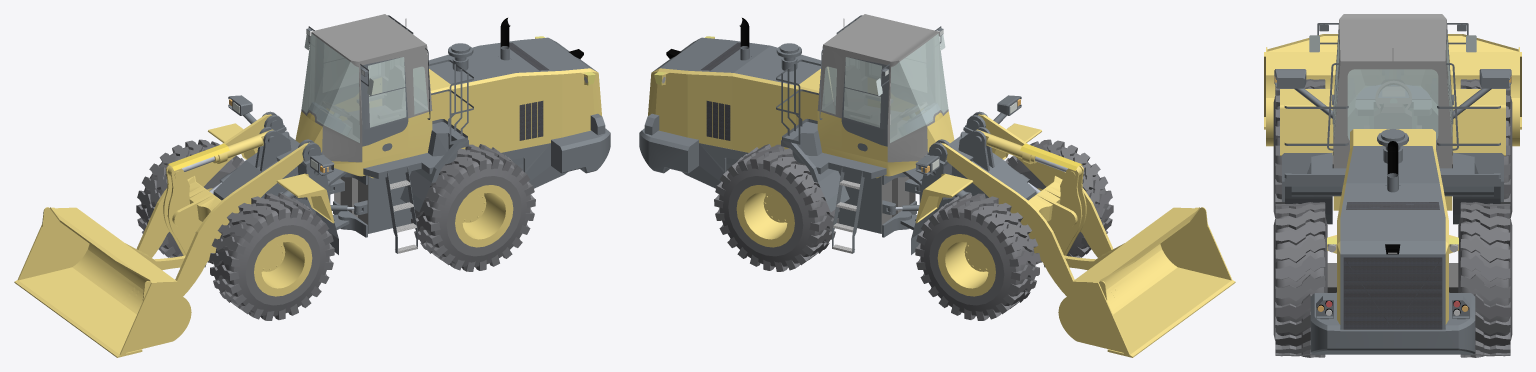
Rendered from loader.glb.
3 renders of one model, left to right at view 1: azimuth 30°, elevation 25°; view 2: azimuth 150°, elevation 25°; view 3: azimuth 270°, elevation 25°, orthographic. The views are drawn at different scales.
Parts seen in each view (by area): view 1: Geom3D_4, Geom3D_13, Geom3D_18, Geom3D_17, Geom3D_28, Geom3D_14, Geom3D_33, Geom3D_24, Geom3D_7, Geom3D_23; view 2: Geom3D_4, Geom3D_13, Geom3D_18, Geom3D_17, Geom3D_28, Geom3D_14, Geom3D_33, Geom3D_24, Geom3D_7, Geom3D_23; view 3: Geom3D_13, Geom3D_17, Geom3D_14, Geom3D_18, Geom3D_33, Geom3D_4, Geom3D_28, Geom3D_20, Geom3D_19, Geom3D_31.
Boxes of the visible parts, bbox=[...] form: Geom3D_4: bbox=[14, 114, 309, 357]; Geom3D_13: bbox=[213, 15, 610, 254]; Geom3D_18: bbox=[193, 37, 601, 296]; Geom3D_17: bbox=[136, 139, 535, 320]; Geom3D_28: bbox=[301, 33, 428, 142]; Geom3D_14: bbox=[301, 14, 432, 162]; Geom3D_33: bbox=[509, 42, 548, 140]; Geom3D_24: bbox=[334, 148, 523, 233]; Geom3D_7: bbox=[167, 143, 229, 170]; Geom3D_23: bbox=[390, 180, 417, 253]; Geom3D_4: bbox=[940, 114, 1235, 357]; Geom3D_13: bbox=[639, 15, 1036, 254]; Geom3D_18: bbox=[648, 37, 1056, 296]; Geom3D_17: bbox=[714, 139, 1113, 320]; Geom3D_28: bbox=[821, 33, 948, 142]; Geom3D_14: bbox=[817, 14, 948, 162]; Geom3D_33: bbox=[701, 42, 740, 140]; Geom3D_24: bbox=[726, 148, 915, 233]; Geom3D_7: bbox=[1020, 143, 1082, 170]; Geom3D_23: bbox=[832, 180, 860, 253]; Geom3D_13: bbox=[1274, 23, 1511, 354]; Geom3D_17: bbox=[1273, 79, 1512, 357]; Geom3D_14: bbox=[1333, 14, 1452, 168]; Geom3D_18: bbox=[1280, 89, 1505, 324]; Geom3D_33: bbox=[1343, 202, 1442, 329]; Geom3D_4: bbox=[1264, 34, 1521, 146]; Geom3D_28: bbox=[1333, 33, 1452, 140]; Geom3D_20: bbox=[1317, 141, 1468, 313]; Geom3D_19: bbox=[1327, 155, 1458, 292]; Geom3D_31: bbox=[1309, 35, 1476, 52].
Bounding box in the file's own units: 8.96 × 3.74 × 3.07.
Materials: 27 (5 with a texture image).
